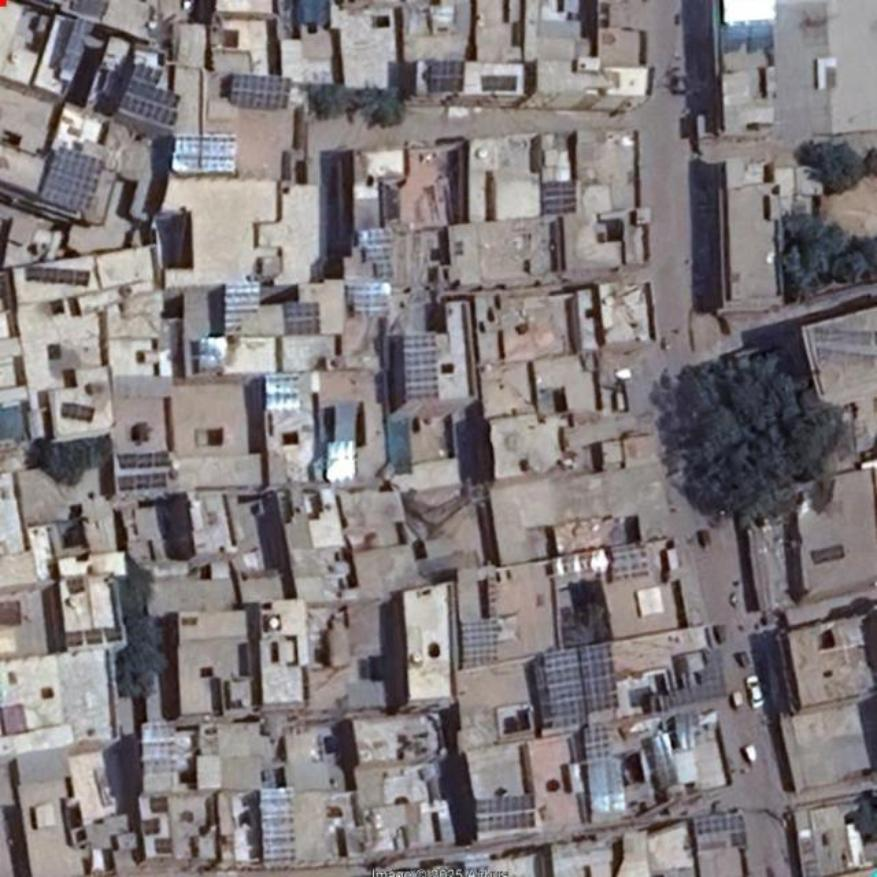Solarpanel: (123, 61, 189, 125), (40, 149, 105, 211), (540, 653, 586, 734), (262, 789, 298, 865), (578, 642, 616, 711), (172, 134, 236, 172), (403, 335, 439, 401), (475, 794, 533, 830), (230, 74, 288, 109), (459, 622, 496, 665), (612, 542, 646, 583), (266, 372, 299, 412), (354, 282, 390, 317), (285, 300, 318, 337), (226, 283, 261, 315), (26, 265, 87, 283), (428, 61, 462, 92), (543, 183, 576, 214), (697, 816, 744, 837), (121, 451, 170, 468), (120, 472, 167, 488), (61, 403, 94, 423)
